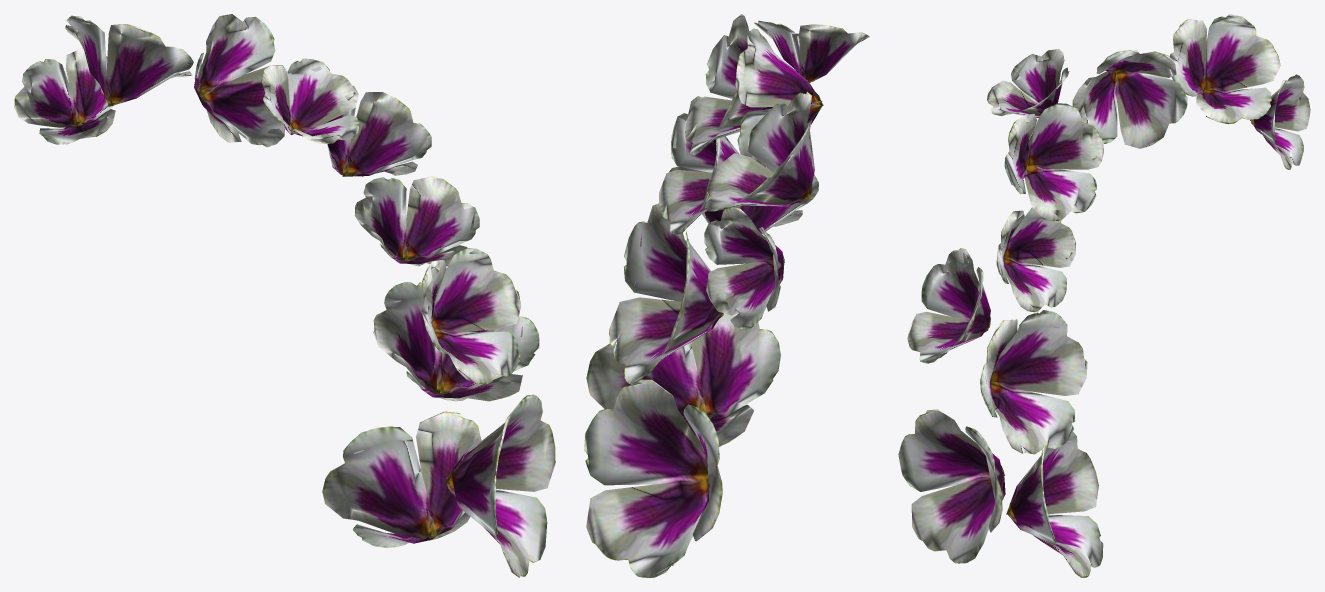
Rendered from bellflower_blue.glb.
The picture shows the model from 3 angles, left to right: view 1: azimuth 30°, elevation 25°; view 2: azimuth 150°, elevation 25°; view 3: azimuth 270°, elevation 25°; orthographic projection. The views are drawn at different scales.
Visible parts, largest first — view 1: bellflower_blue; view 2: bellflower_blue; view 3: bellflower_blue.
Part boxes in pixels (x1=…): bellflower_blue: x1=14, y1=14, x2=555, y2=577; bellflower_blue: x1=584, y1=14, x2=869, y2=577; bellflower_blue: x1=898, y1=14, x2=1310, y2=577.
Size of the model in its own units: 0.1275 by 0.1847 by 0.148.
1 material, 1 textured.
